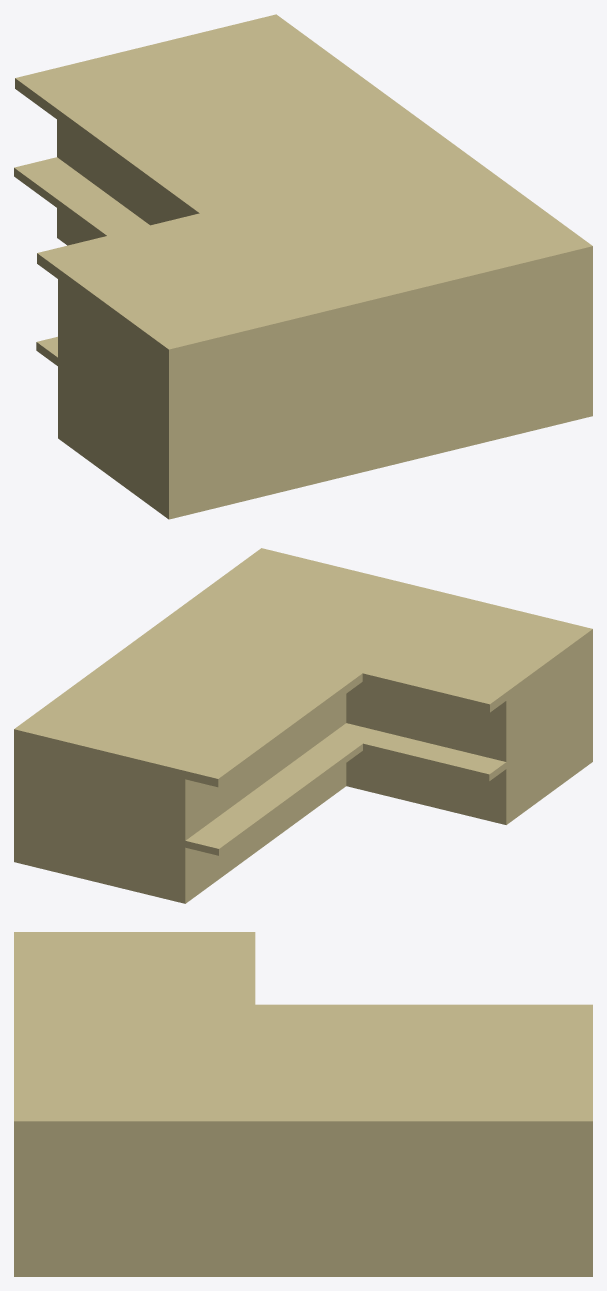
The model's file is HotTub.fbx.
3 views of the same model, one above another, from view 1: azimuth 30°, elevation 25°; view 2: azimuth 150°, elevation 25°; view 3: azimuth 270°, elevation 25° (orthographic). The views are drawn at different scales.
Parts seen in each view (by area): view 1: Building; view 2: Building; view 3: Building.
Boxes of the visible parts, x1,y1,x2,y2 form: Building: (14,14,592,519); Building: (14,548,592,903); Building: (14,932,592,1276).
Size of what is drawn, in the model's own units: 1933 by 741 by 2500.
